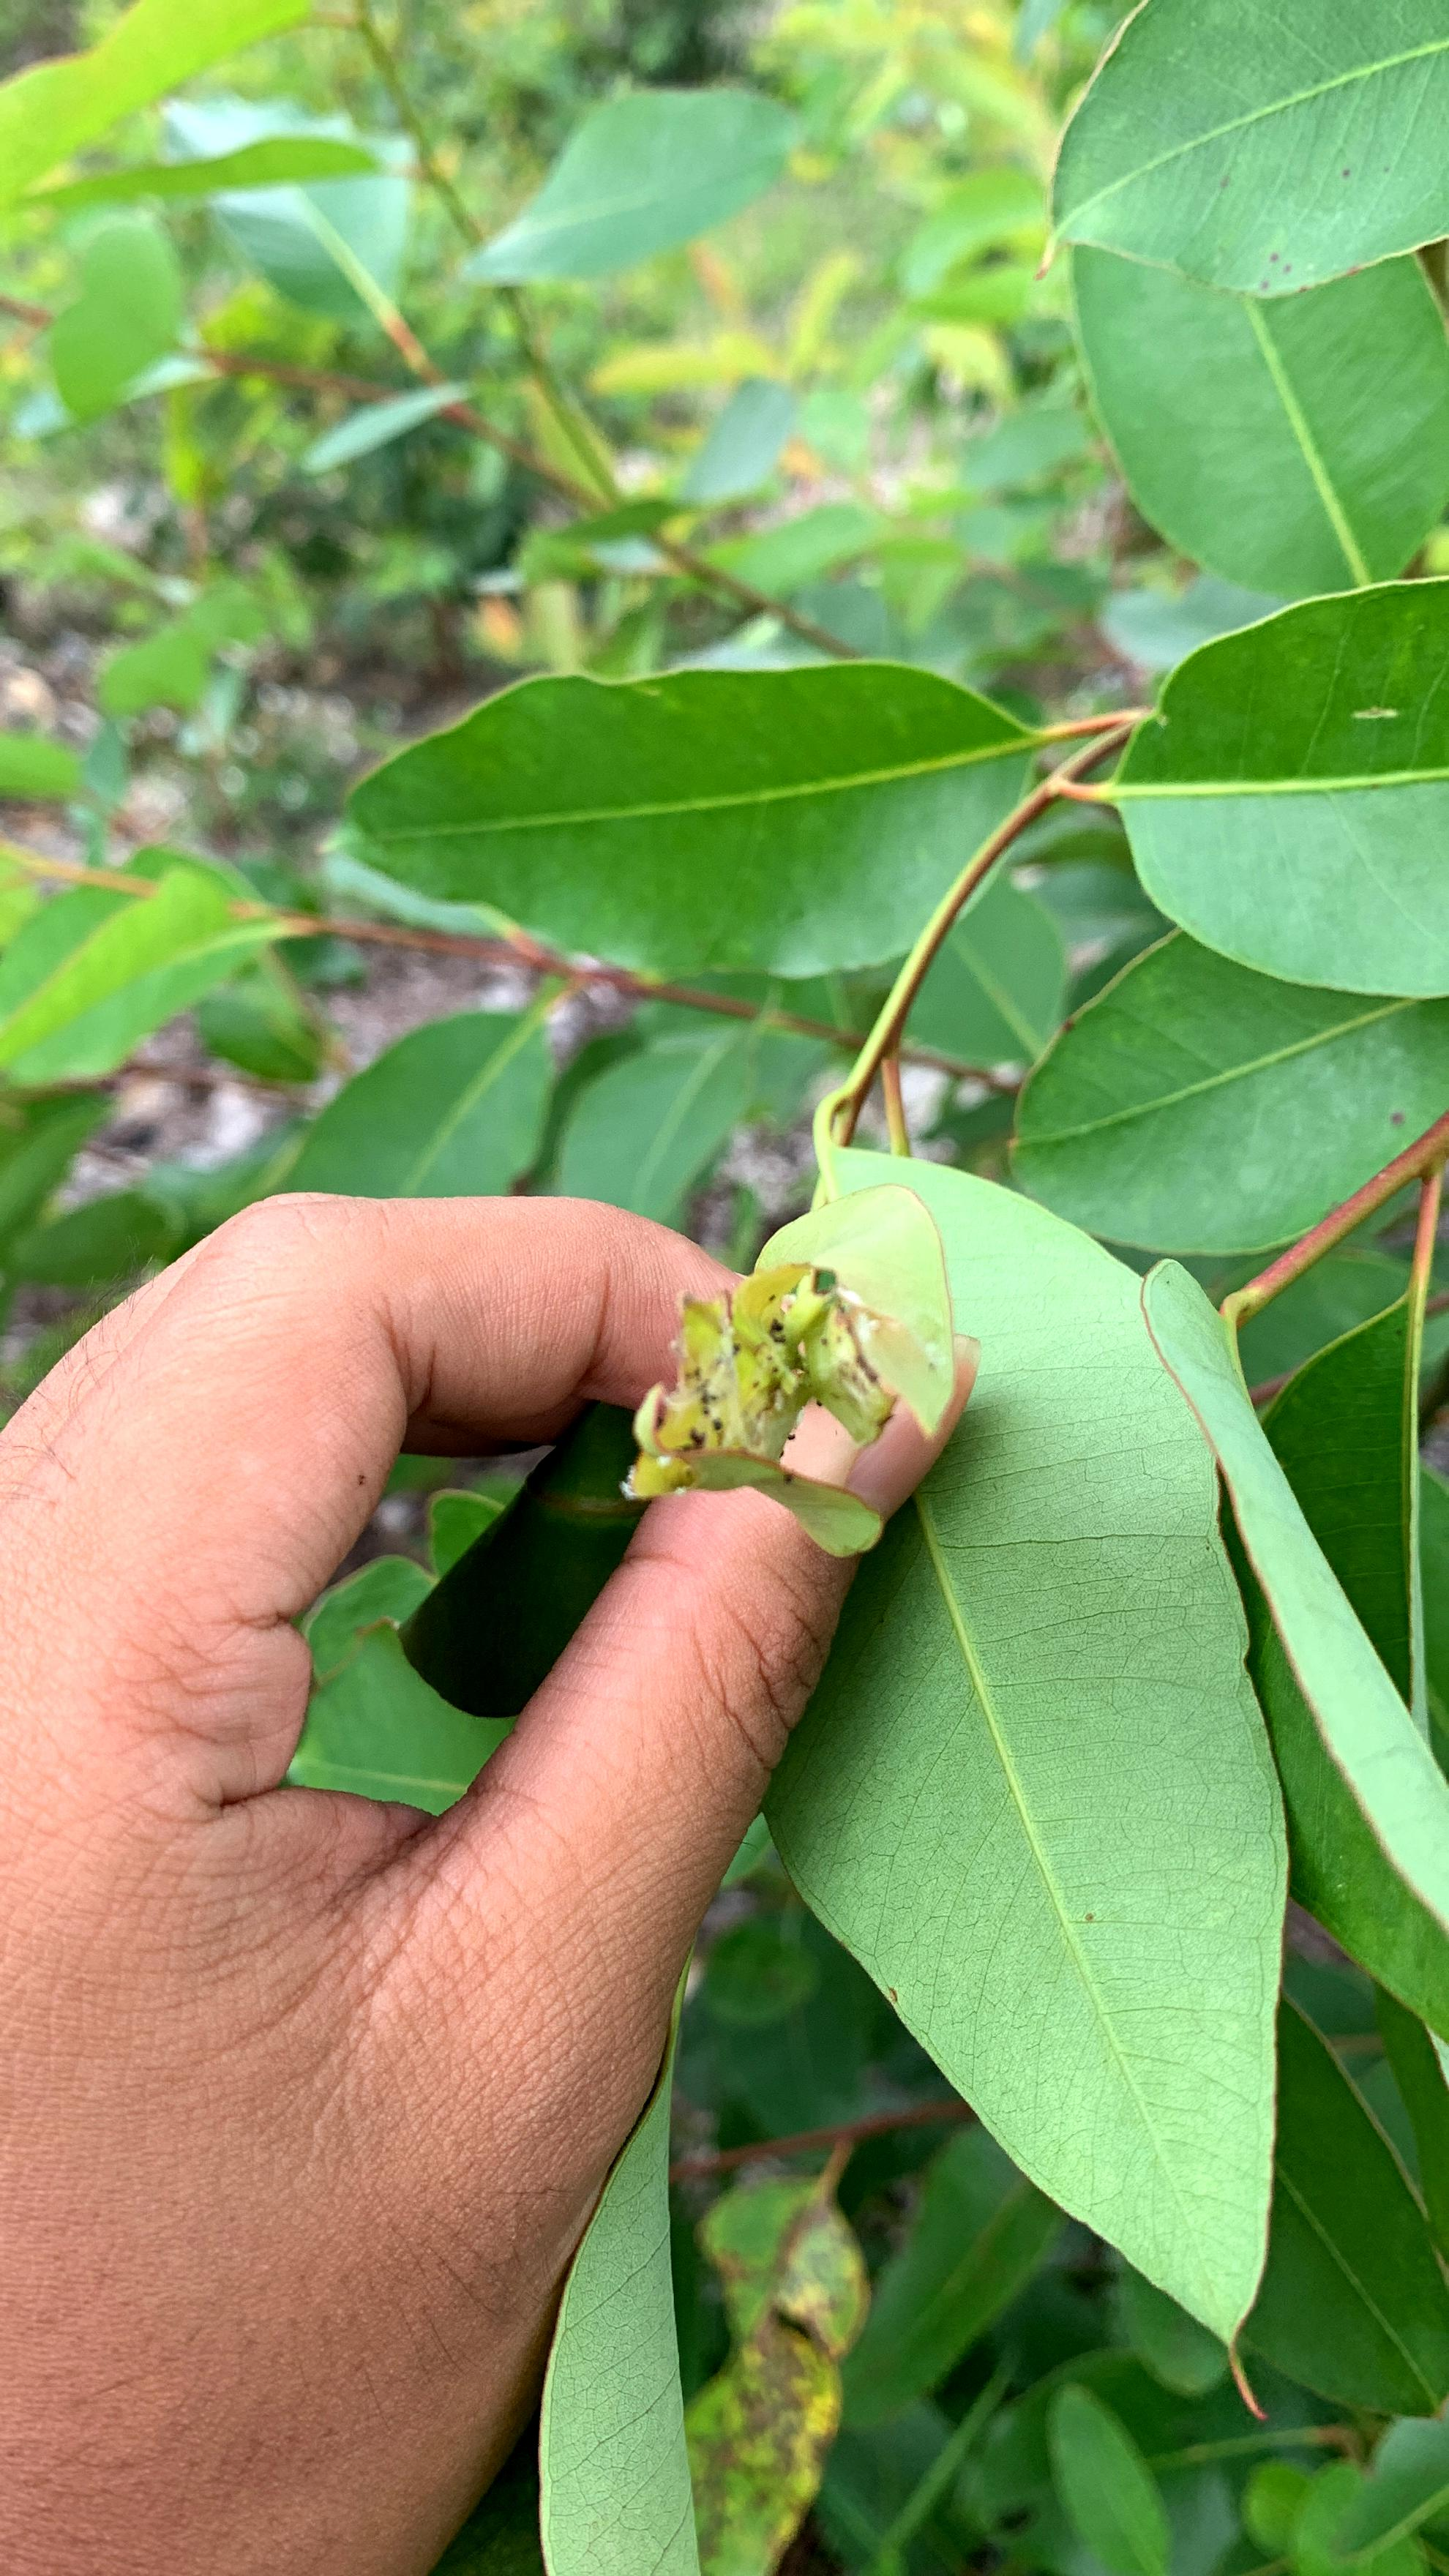Leaf Roller - Leaf: (570, 1121, 989, 1600)
